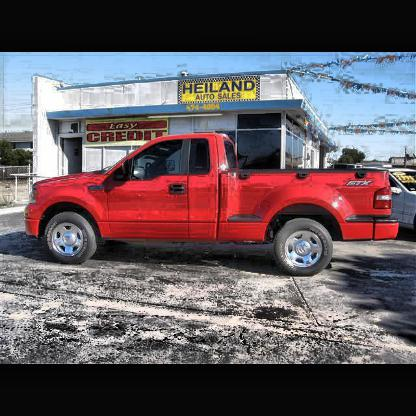Ford F-150 Regular Cab 2007: (24, 132, 400, 278)
